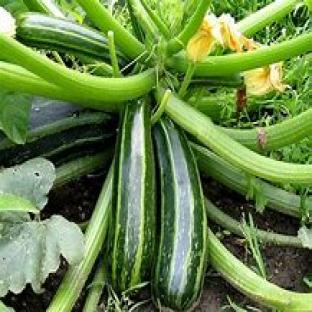Zucchini: (153, 119, 207, 310), (111, 101, 155, 291), (0, 99, 116, 166), (16, 12, 110, 61)
